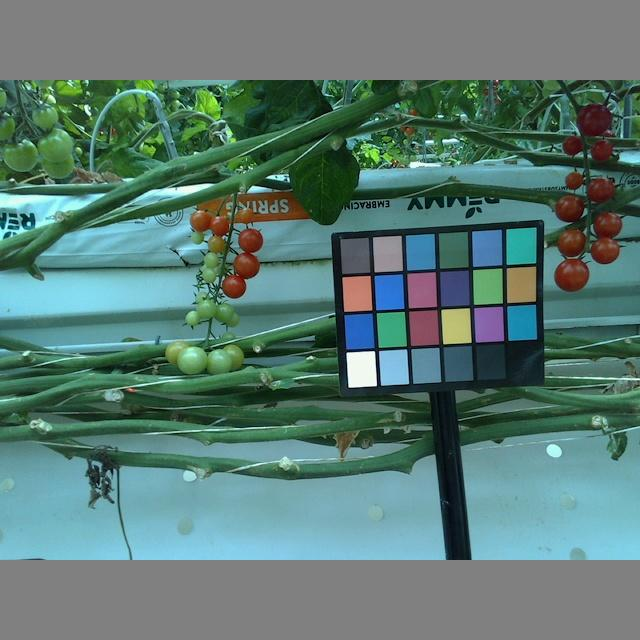green: (36, 128, 74, 164), (4, 135, 39, 173), (176, 346, 207, 374), (163, 340, 192, 366), (32, 104, 59, 130), (207, 347, 232, 374), (219, 343, 243, 371), (211, 301, 234, 324), (196, 298, 216, 320), (203, 250, 218, 270), (183, 309, 200, 326), (201, 268, 216, 284), (190, 228, 204, 245)
pink: (577, 104, 612, 137), (552, 260, 589, 291), (590, 233, 619, 265), (555, 193, 585, 223), (558, 227, 588, 257), (587, 175, 618, 204), (594, 211, 624, 238), (221, 272, 247, 299), (233, 253, 261, 278), (237, 227, 264, 251), (590, 140, 615, 161), (562, 133, 583, 155), (191, 207, 212, 227), (566, 169, 585, 188), (207, 235, 224, 256), (210, 215, 228, 233), (238, 204, 253, 223)
